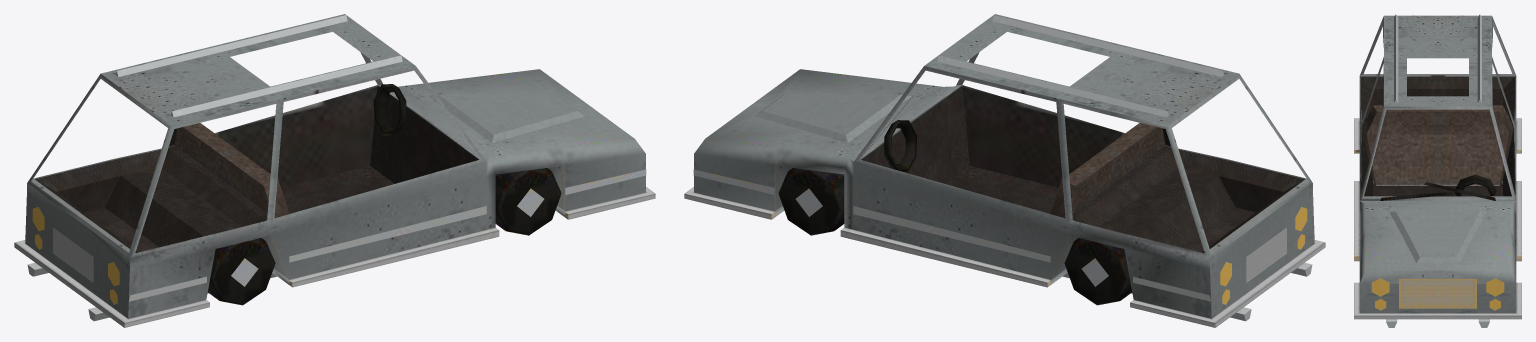
The model's file is entity15454.gltf.
The picture shows the model from 3 angles, left to right: view 1: azimuth 30°, elevation 25°; view 2: azimuth 150°, elevation 25°; view 3: azimuth 270°, elevation 25°; orthographic projection. The views are drawn at different scales.
Visible parts, largest first — view 1: node_Exhibit_Car_Art (0); view 2: node_Exhibit_Car_Art (0); view 3: node_Exhibit_Car_Art (0).
Part boxes in pixels (box(x1,y1,x2,y2)): node_Exhibit_Car_Art (0): box(14, 14, 655, 327); node_Exhibit_Car_Art (0): box(684, 14, 1325, 327); node_Exhibit_Car_Art (0): box(1354, 14, 1521, 327).
Size of what is drawn, in the model's own units: 6.72 by 2.25 by 2.35.
1 material, 1 textured.
